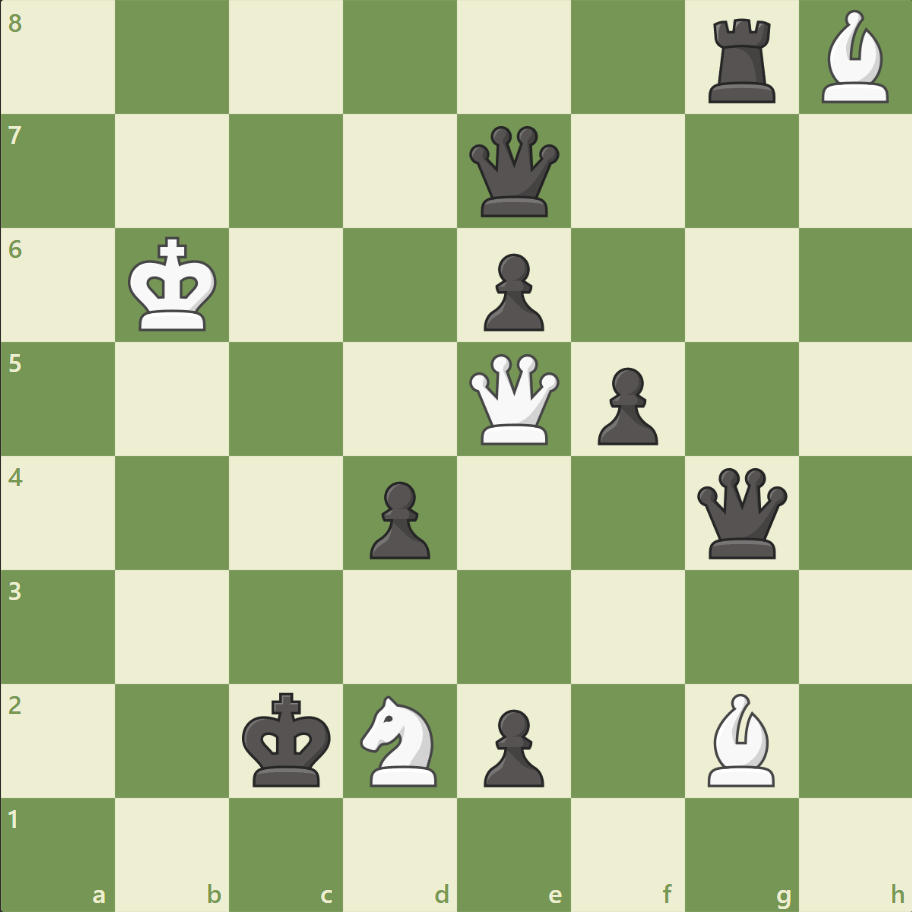B: (812, 6, 896, 109), (698, 687, 782, 790)
K: (124, 231, 224, 339)
N: (351, 688, 449, 791)
Q: (464, 349, 563, 449)
k: (238, 685, 338, 793)
p: (474, 246, 549, 337), (474, 700, 549, 791), (588, 359, 662, 450), (361, 473, 435, 564)
q: (464, 122, 563, 222), (691, 463, 790, 562)
r: (700, 12, 783, 109)
